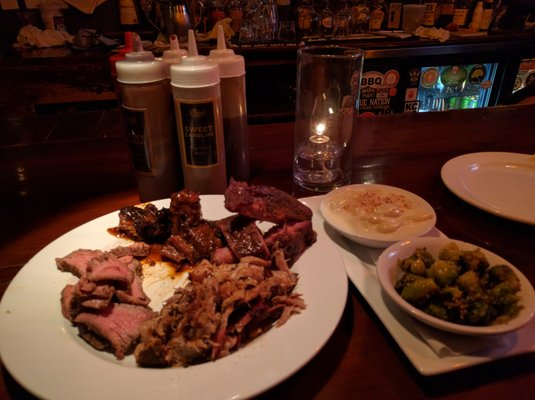sushi: (376, 234, 534, 336)
